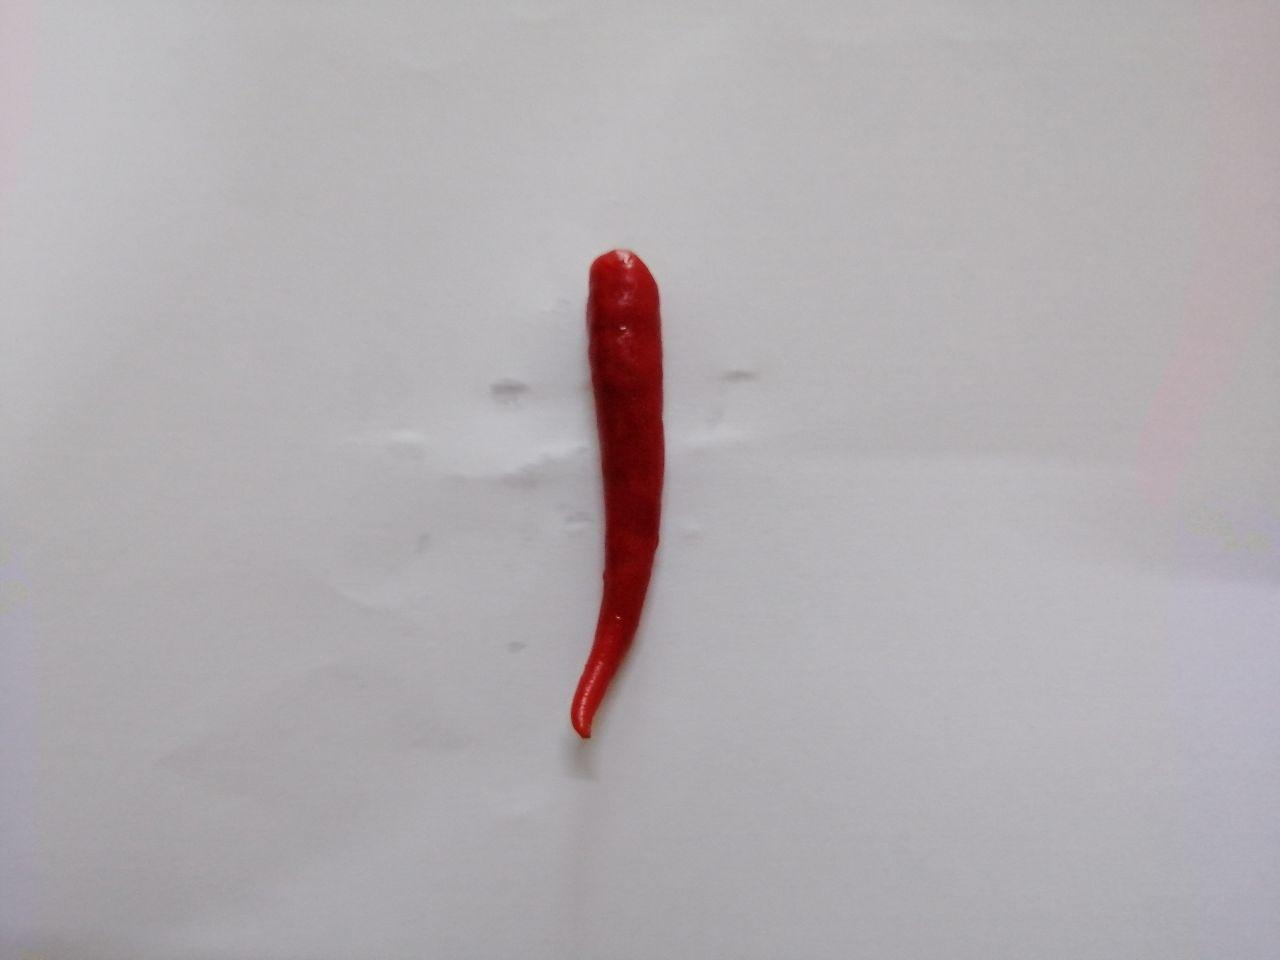lada merah: (534, 228, 696, 775)
